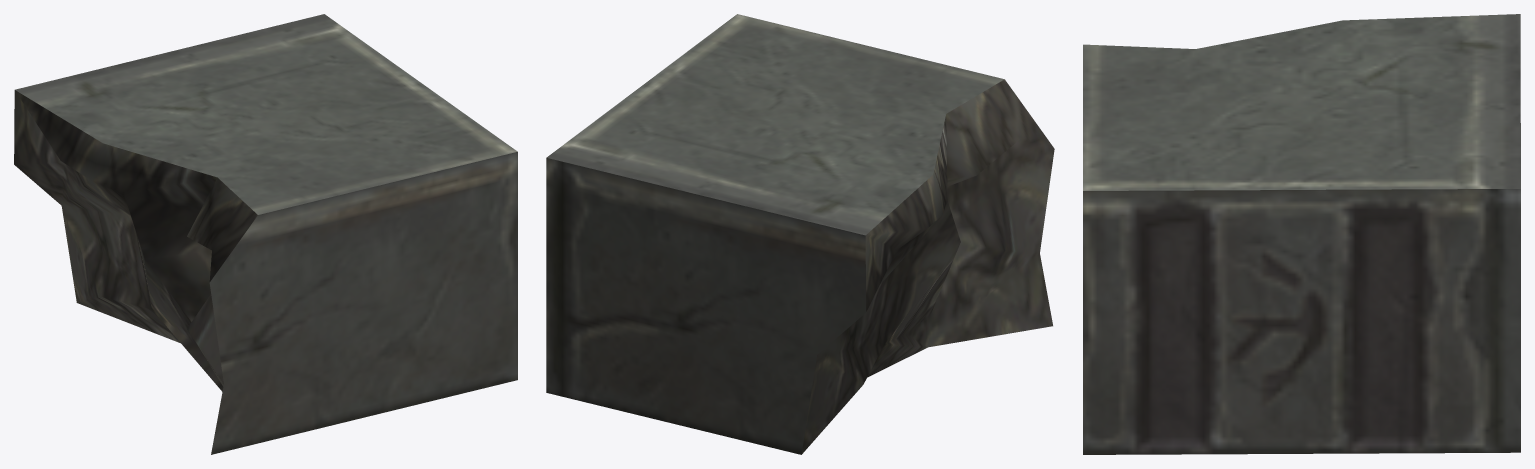
Rendered from F_shizhu003.fbx.
The picture shows the model from 3 angles, left to right: view 1: azimuth 30°, elevation 25°; view 2: azimuth 150°, elevation 25°; view 3: azimuth 270°, elevation 25°; orthographic projection. The views are drawn at different scales.
Visible parts, largest first — view 1: F_shizhu003; view 2: F_shizhu003; view 3: F_shizhu003.
Boxes of the visible parts, x1,y1,x2,y2 form: F_shizhu003: [14, 14, 517, 454]; F_shizhu003: [546, 14, 1054, 454]; F_shizhu003: [1083, 14, 1520, 454].
Size of the model in its own units: 59.11 by 40.19 by 60.44.
